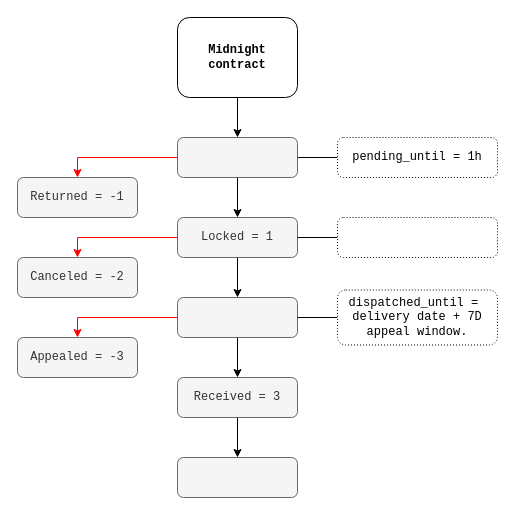
This 515x515 diagram has some shape labels left out. The shapes that lost their labels are listed below. From the top down, each one's box as (x1, y1, x2, y2) in pixels, then its label:
(176, 136, 298, 178): Pending = 0
(336, 216, 498, 258): locked_until = 24h
(176, 296, 298, 338): Dispatched = 2
(176, 456, 298, 498): Collected = 4
